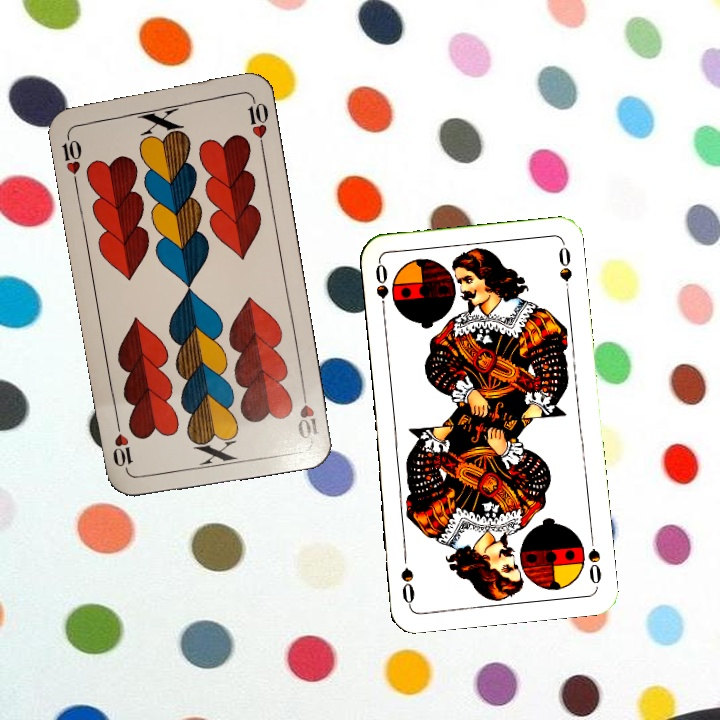H10: (293, 383, 322, 442), (57, 128, 85, 187)
SO: (584, 529, 604, 589), (371, 259, 391, 318)
